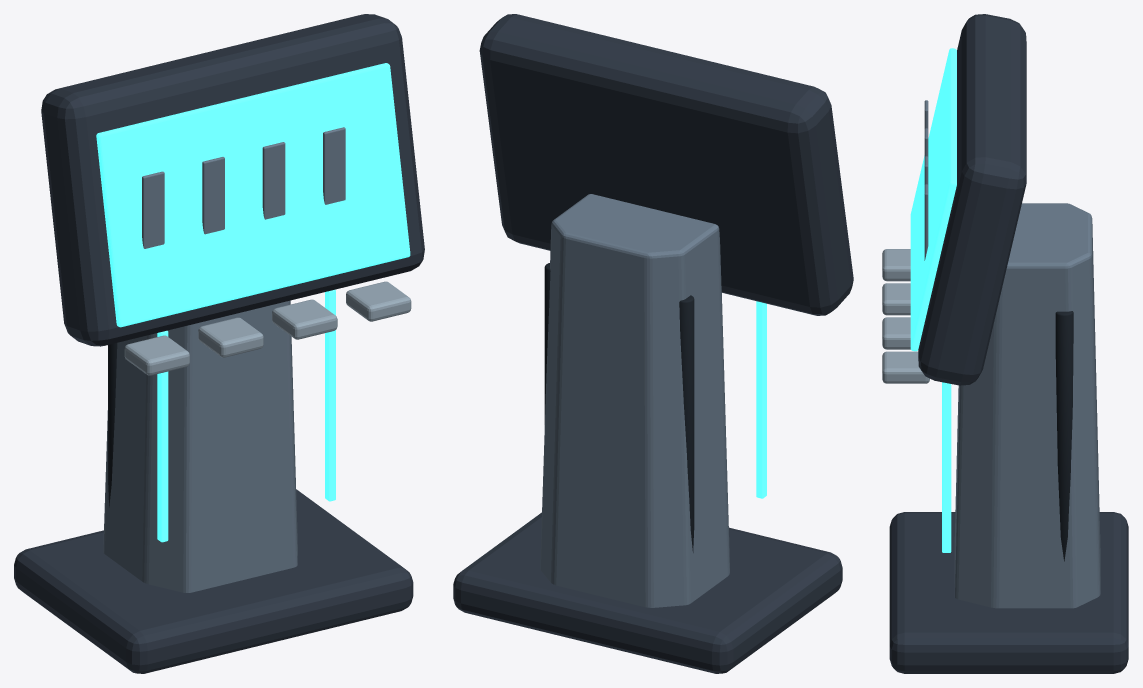
File: Terminal.fbx
3 renders of one model, left to right at view 1: azimuth 30°, elevation 25°; view 2: azimuth 150°, elevation 25°; view 3: azimuth 270°, elevation 25°, orthographic. The views are drawn at different scales.
Visible parts, largest first — view 1: ScreenGlass, TerminalPedestal, ConsoleFrame, TerminalFoot, TerminalStatus.001, TerminalStatus, ConsoleKey.002, ConsoleKey.001, ConsoleKey.003, ConsoleKey, ScreenCircuit.002, ScreenCircuit (+3 smaller); view 2: ConsoleFrame, TerminalPedestal, TerminalFoot, PedestalConduit, TerminalStatus, PedestalConduit.001; view 3: TerminalPedestal, ConsoleFrame, TerminalFoot, ScreenGlass, PedestalConduit.001, TerminalStatus.001, ConsoleKey.003, ConsoleKey, ConsoleKey.001, ConsoleKey.002.
Part boxes in pixels (x1,y1,x2,y2): ScreenGlass: [96, 63, 410, 327]; TerminalPedestal: [103, 300, 297, 592]; ConsoleFrame: [41, 14, 424, 346]; TerminalFoot: [14, 489, 413, 673]; TerminalStatus.001: [325, 289, 335, 501]; TerminalStatus: [157, 330, 168, 542]; ConsoleKey.002: [272, 299, 337, 339]; ConsoleKey.001: [198, 317, 263, 357]; ConsoleKey.003: [346, 281, 411, 321]; ConsoleKey: [124, 335, 189, 375]; ScreenCircuit.002: [262, 142, 285, 219]; ScreenCircuit: [142, 171, 164, 248]; ConsoleFrame: [479, 14, 853, 315]; TerminalPedestal: [540, 194, 729, 607]; TerminalFoot: [453, 512, 842, 673]; PedestalConduit: [679, 295, 694, 552]; TerminalStatus: [756, 301, 766, 498]; PedestalConduit.001: [544, 263, 550, 424]; TerminalPedestal: [954, 203, 1100, 608]; ConsoleFrame: [918, 14, 1026, 385]; TerminalFoot: [889, 512, 1128, 673]; ScreenGlass: [910, 48, 956, 351]; PedestalConduit.001: [1055, 311, 1073, 561]; TerminalStatus.001: [942, 382, 951, 552]; ConsoleKey.003: [882, 351, 929, 383]; ConsoleKey: [882, 249, 910, 281]; ConsoleKey.001: [882, 283, 910, 315]; ConsoleKey.002: [882, 317, 910, 349].
Size of the model in its own units: 1.02 by 1.58 by 0.67.
